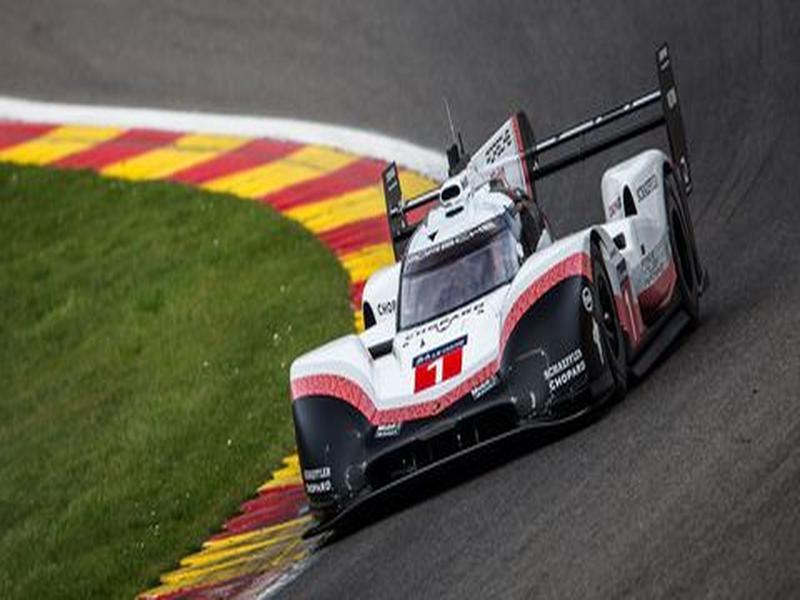f1: (300, 109, 686, 472)
